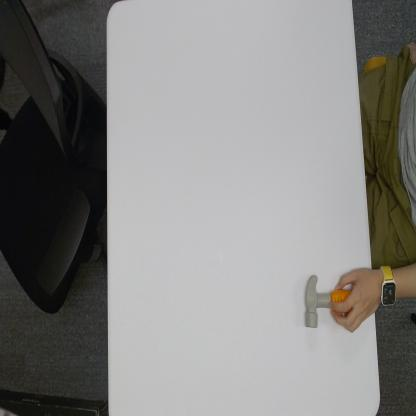Hammer: (304, 276, 350, 329)
Hand: (332, 264, 378, 332)
